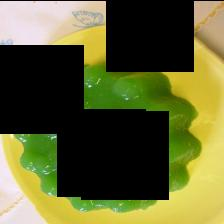green: (13, 59, 201, 212)
